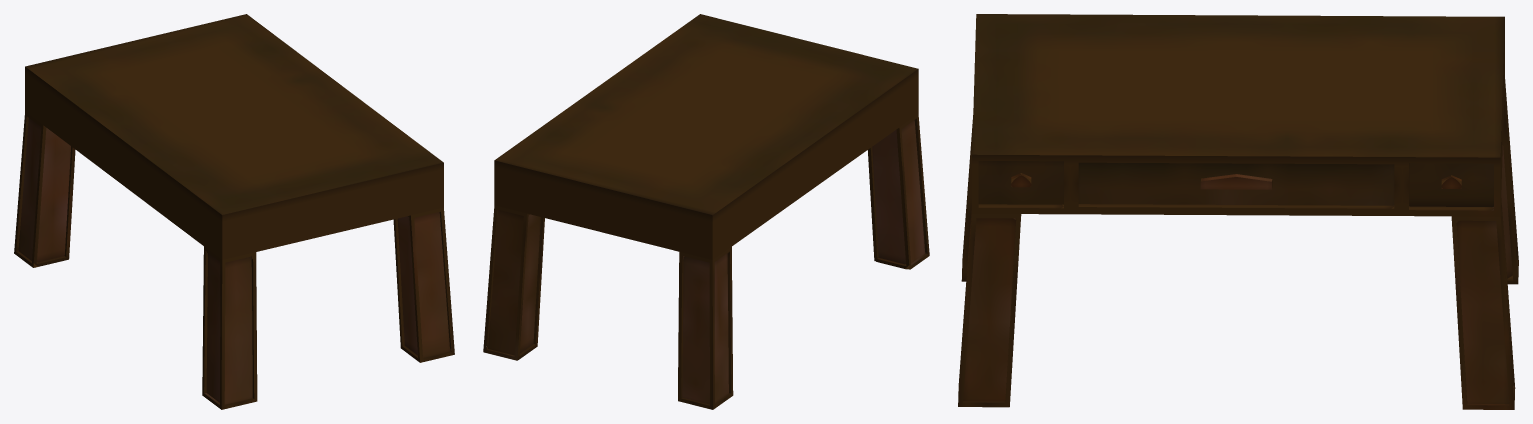
File: MesaCamarim.fbx
The picture shows the model from 3 angles, left to right: view 1: azimuth 30°, elevation 25°; view 2: azimuth 150°, elevation 25°; view 3: azimuth 270°, elevation 25°; orthographic projection. The views are drawn at different scales.
Parts seen in each view (by area): view 1: Cube.169_Cube.176; view 2: Cube.169_Cube.176; view 3: Cube.169_Cube.176.
Part boxes in pixels (<box>): Cube.169_Cube.176: <box>14,14,454,409</box>; Cube.169_Cube.176: <box>483,14,929,409</box>; Cube.169_Cube.176: <box>958,14,1518,409</box>.
Bounding box in the file's own units: 108 × 82.68 × 169.
1 material, 1 textured.
